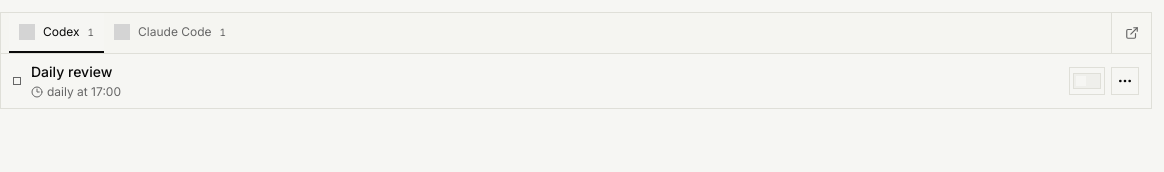
it: ProviderAutomationsPanel › separates agent-owned schedules into branded provider tabs
expect the text "Daily review" is shown: met, box [31,63,112,80]
expect the text "Say hi" is not shown: met
Click the tab "Claude Code 1".
click(170, 33)  # box [104,13,236,53]
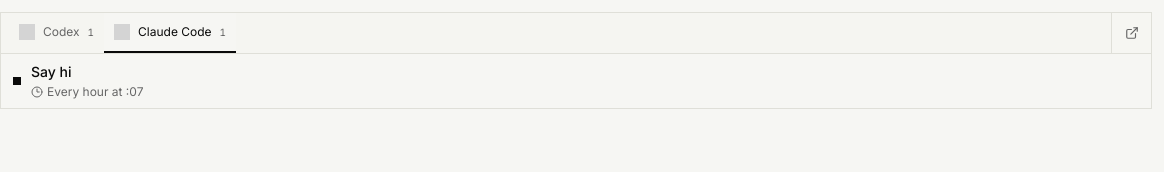
expect the text "Say hi" is shown: met, box [31,63,72,80]
expect the text "Every hour at :07" is shown: met, box [47,84,144,100]
expect the picture named "active" is shown: met, box [13,77,21,85]
